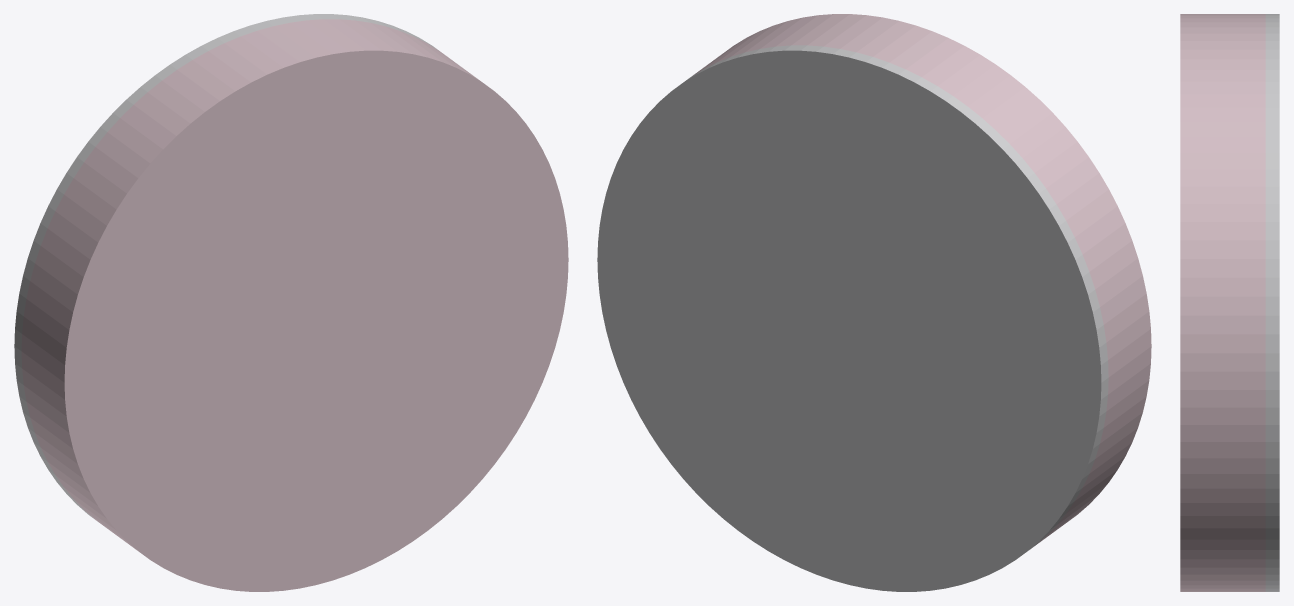
The model's file is cake_8in_layers1.glb.
The picture shows the model from 3 angles, left to right: view 1: azimuth 30°, elevation 25°; view 2: azimuth 150°, elevation 25°; view 3: azimuth 270°, elevation 25°; orthographic projection.
Parts seen in each view (by area): view 1: geometry_0, geometry_1; view 2: geometry_1, geometry_0; view 3: geometry_0, geometry_1.
Boxes of the visible parts, x1,y1,x2,y2 form: geometry_0: [21, 19, 568, 591]; geometry_1: [14, 14, 438, 518]; geometry_1: [597, 45, 1108, 591]; geometry_0: [693, 14, 1151, 545]; geometry_0: [1180, 14, 1265, 591]; geometry_1: [1265, 14, 1279, 591].
Size of the model in its own units: 0.2032 by 0.2032 by 0.035.
